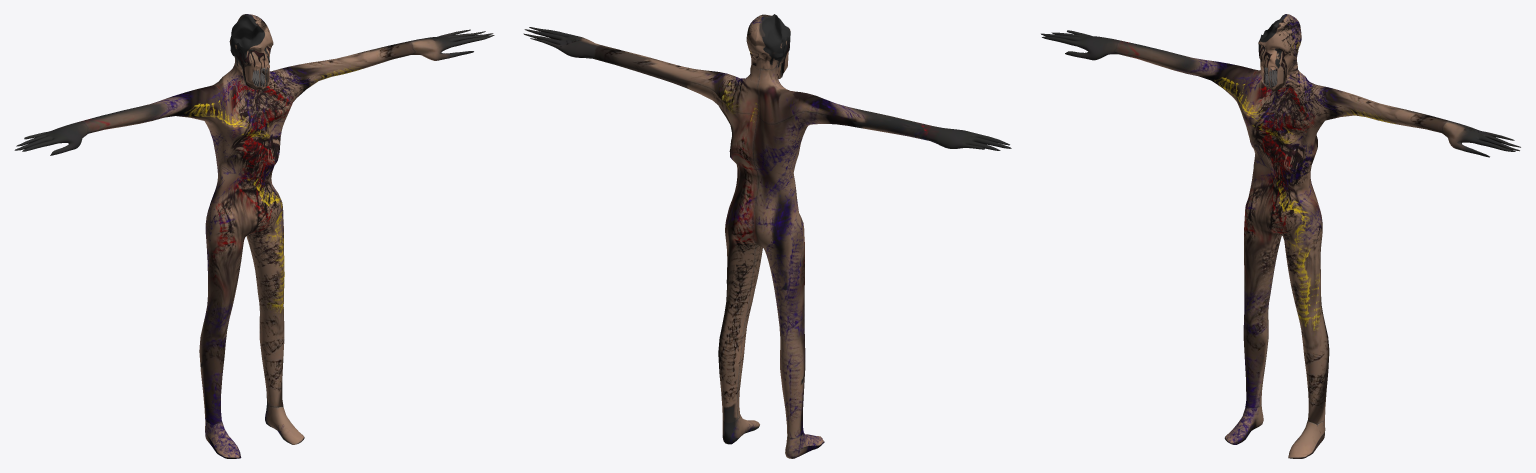
The model's file is MonsterJumpscare.fbx.
3 views of the same model, side by side, from view 1: azimuth 30°, elevation 25°; view 2: azimuth 150°, elevation 25°; view 3: azimuth 330°, elevation 25° (orthographic).
Visible parts, largest first — view 1: pasted__pCube2; view 2: pasted__pCube2; view 3: pasted__pCube2.
Part boxes in pixels (left/top/right/bottom): pasted__pCube2: left=14, top=14, right=494, bottom=458; pasted__pCube2: left=523, top=14, right=1011, bottom=458; pasted__pCube2: left=1041, top=14, right=1520, bottom=458.
Bounding box in the file's own units: 218 × 183 × 28.73.
3 materials, 1 textured.
